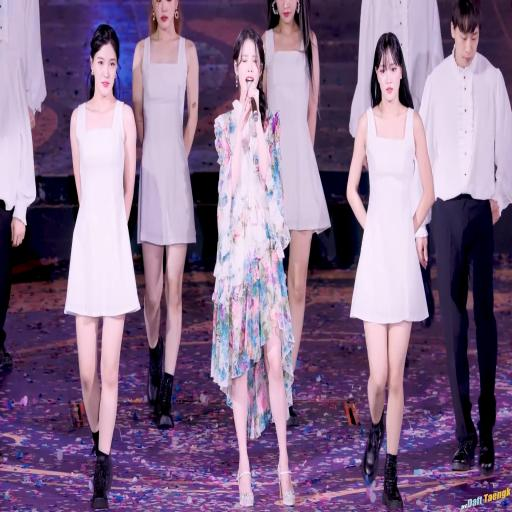IU: (232, 28, 266, 100)
